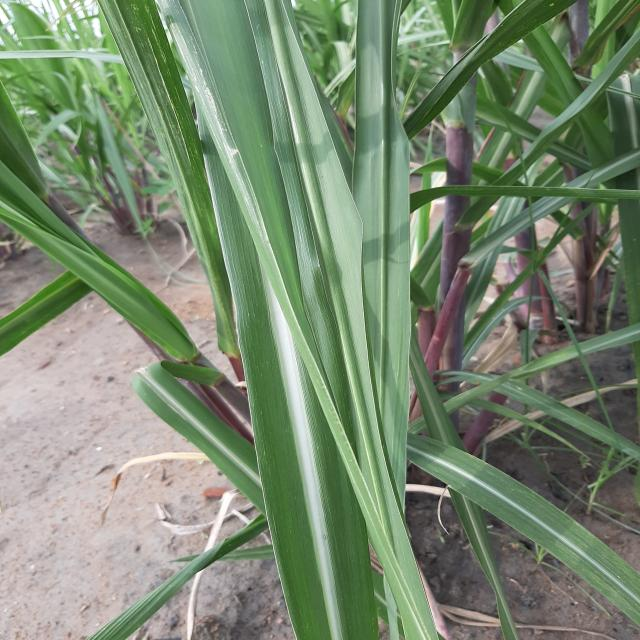Sugarcane: (1, 0, 638, 639)
